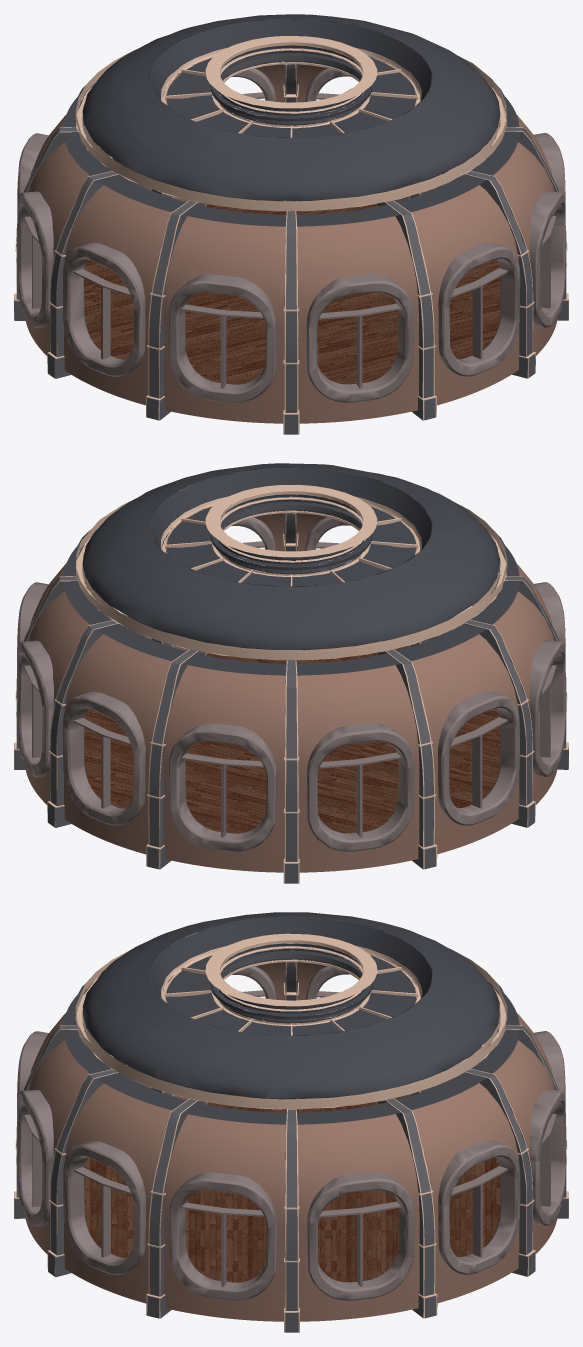
The model's file is optimizedPastMuseum.glb.
3 renders of one model, top to bottom at view 1: azimuth 30°, elevation 25°; view 2: azimuth 150°, elevation 25°; view 3: azimuth 270°, elevation 25°, orthographic.
Visible parts, largest first — view 1: Circle.002, Circle, Cube.002, Cube.001, Circle.001, Cube.004, Cube.003; view 2: Circle.002, Circle, Cube.002, Cube.001, Circle.001, Cube.004, Cube.003; view 3: Circle.002, Circle, Cube.002, Cube.001, Circle.001, Cube.004, Cube.003.
Part boxes in pixels (bbox=[...]): Circle.002: bbox=[75, 14, 507, 211]; Circle: bbox=[25, 47, 557, 423]; Cube.002: bbox=[17, 68, 565, 402]; Cube.001: bbox=[14, 59, 568, 434]; Circle.001: bbox=[84, 200, 500, 384]; Cube.004: bbox=[24, 92, 556, 388]; Cube.003: bbox=[165, 48, 417, 137]; Circle.002: bbox=[76, 463, 507, 660]; Circle: bbox=[25, 497, 557, 872]; Cube.002: bbox=[17, 517, 565, 851]; Cube.001: bbox=[14, 509, 568, 883]; Circle.001: bbox=[84, 648, 500, 833]; Cube.004: bbox=[24, 541, 556, 837]; Cube.003: bbox=[164, 496, 417, 586]; Circle.002: bbox=[75, 912, 507, 1109]; Circle: bbox=[25, 946, 557, 1321]; Cube.002: bbox=[17, 966, 565, 1300]; Cube.001: bbox=[14, 962, 568, 1332]; Circle.001: bbox=[84, 1097, 500, 1282]; Cube.004: bbox=[24, 990, 556, 1286]; Cube.003: bbox=[164, 950, 418, 1035].
Size of the model in its own units: 33.07 by 16.14 by 33.07.
6 materials, 1 textured.
